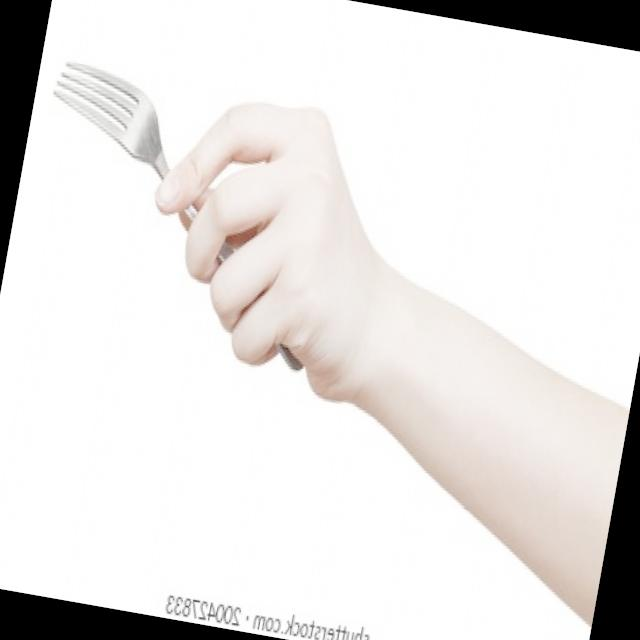fork: (12, 54, 354, 378)
